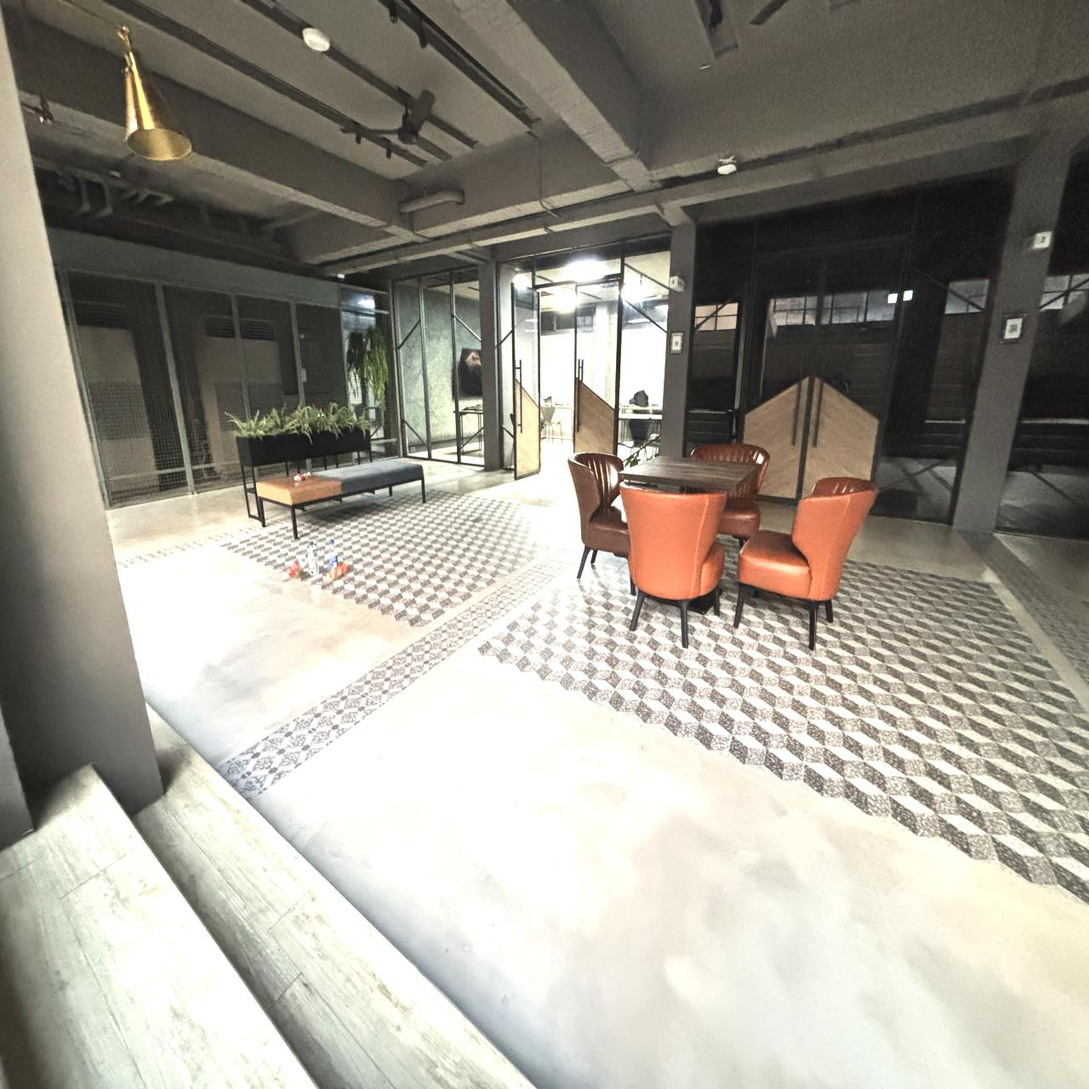plastic-bottle: (307, 541, 320, 577), (328, 539, 339, 579)
